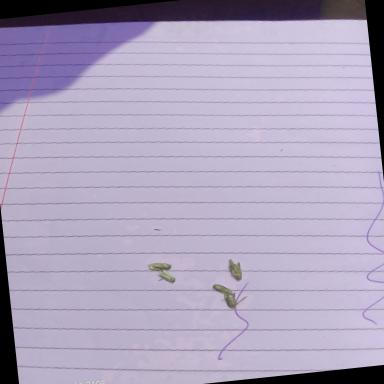pbw: (226, 256, 243, 282), (156, 268, 180, 285), (220, 289, 240, 309), (146, 259, 174, 273), (211, 280, 234, 296)
